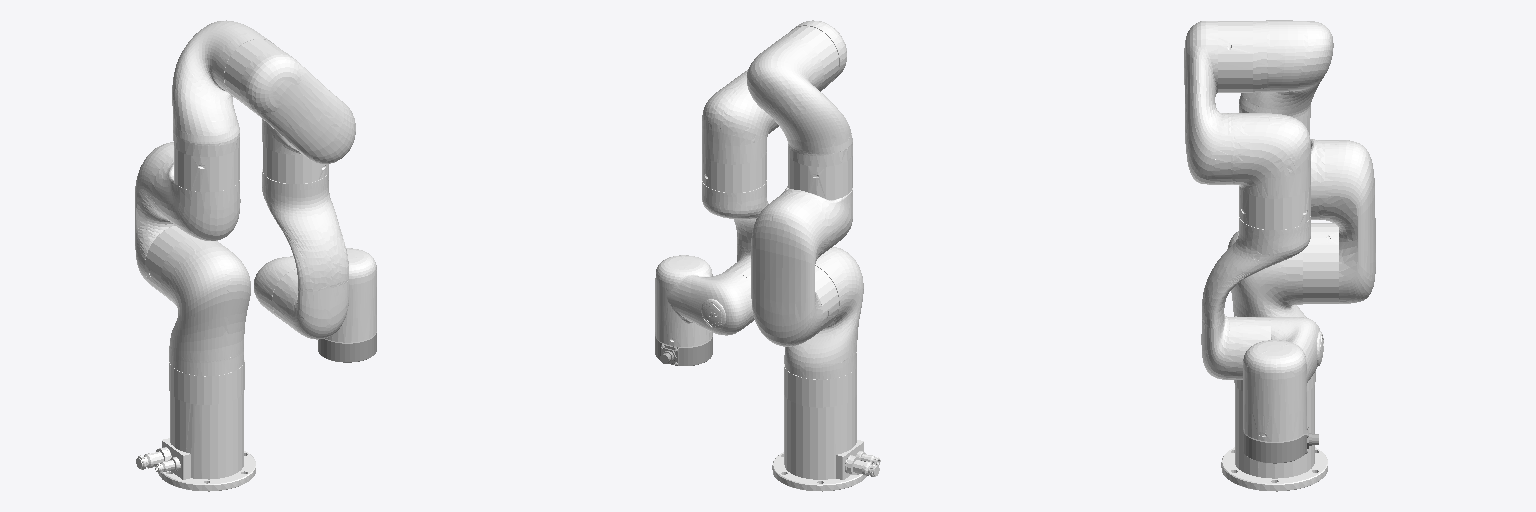
--- Facts derived from the render (not from the file) ---
The picture shows the robot from 3 angles, left to right: view 1: azimuth 30°, elevation 25°; view 2: azimuth 150°, elevation 25°; view 3: azimuth 270°, elevation 25°; orthographic projection.
Robot: UF_ROBOT — 18 links, 17 joints (13 revolute, 4 fixed); root link world; default pose: all joints at 0.
Visible links, largest first — view 1: link1, link4, link5, link_base, link3, link2, link6, link7; view 2: link2, link3, link_base, link4, link6, link1, link5, link7; view 3: link4, link3, link2, link6, link5, link1, link_base, link7.
Boxes of the visible links, x1,y1,x2,y2 form: link1: (145, 226, 250, 375); link4: (240, 50, 355, 183); link5: (262, 169, 348, 339); link_base: (136, 360, 255, 491); link3: (172, 20, 283, 156); link2: (135, 142, 240, 286); link6: (254, 248, 376, 342); link7: (318, 332, 376, 362); link2: (751, 155, 852, 346); link3: (747, 26, 852, 166); link_base: (772, 364, 880, 491); link4: (702, 20, 846, 192); link6: (655, 255, 754, 346); link1: (784, 247, 863, 378); link5: (702, 180, 768, 280); link7: (655, 336, 712, 365); link4: (1184, 21, 1310, 229); link3: (1218, 20, 1333, 123); link2: (1304, 120, 1375, 303); link6: (1243, 317, 1323, 441); link5: (1201, 216, 1310, 379); link1: (1227, 223, 1338, 317); link_base: (1221, 371, 1327, 491); link7: (1243, 426, 1318, 463).
Size in the robot's own frame: 0.3358 by 0.2259 by 0.6028 metres.
8 mesh visuals loaded from 15 distinct referenced files (8 binary STL); not drawn: 7 (reference not matched to a file when rendering).

The robot description file, URDF, robot "UF_ROBOT":
<?xml version="1.0" ?>
<!-- =================================================================================== -->
<!-- |    This document was autogenerated by xacro from xarm_description/urdf/xarm_device.urdf.xacro | -->
<!-- |    EDITING THIS FILE BY HAND IS NOT RECOMMENDED                                 | -->
<!-- =================================================================================== -->
<robot name="UF_ROBOT">
  <!-- Insert at the beginning of xarm_device_macro.xacro -->
  <material name="Black">
    <color rgba="0.0 0.0 0.0 1.0"/>
  </material>
  <material name="Red">
    <color rgba="0.8 0.0 0.0 1.0"/>
  </material>
  <material name="White">
    <color rgba="1.0 1.0 1.0 1.0"/>
  </material>
  <material name="Silver">
    <color rgba="0.753 0.753 0.753 1.0"/>
  </material>
  <link name="world"/>
  <joint name="world_joint" type="fixed">
    <parent link="world"/>
    <child link="link_base"/>
    <origin rpy="0 0 0" xyz="0. 0. 0."/>
  </joint>
  <link name="link_base">
    <inertial>
      <origin rpy="0 0 0" xyz="-0.021131 -0.0016302 0.056488"/>
      <mass value="0.88556"/>
      <inertia ixx="0.0030595" ixy="0.00012259" ixz="-0.00062705" iyy="0.0037783" iyz="0.00027023" izz="0.0020125"/>
    </inertial>
    <visual>
      <geometry>
        <mesh filename="link_base.stl"/>
      </geometry>
      <origin rpy="0 0 0" xyz="0 0 0"/>
      <material name="White"/>
    </visual>
    <collision>
      <geometry>
        <mesh filename="link_base.stl"/>
      </geometry>
      <origin rpy="0 0 0" xyz="0 0 0"/>
    </collision>
  </link>
  <link name="link1">
    <inertial>
      <origin rpy="0 0 0" xyz="-0.0002 0.02905 -0.01233"/>
      <mass value="2.382"/>
      <inertia ixx="0.0056905" ixy="-1.579e-05" ixz="5.125e-06" iyy="0.0049566" iyz="-0.000873378" izz="0.003316654"/>
    </inertial>
    <visual>
      <geometry>
        <mesh filename="link1.stl"/>
      </geometry>
      <origin rpy="0 0 0" xyz="0 0 0"/>
      <material name="White"/>
    </visual>
    <collision>
      <geometry>
        <mesh filename="link1.stl"/>
      </geometry>
      <origin rpy="0 0 0" xyz="0 0 0"/>
    </collision>
  </link>
  <joint name="joint1" type="revolute">
    <origin rpy="0 0 0" xyz="0 0 0.267"/>
    <parent link="link_base"/>
    <child link="link1"/>
    <axis xyz="0 0 1"/>
    <limit effort="50" lower="-6.283185307179586" upper="6.283185307179586" velocity="3.14"/>
    <dynamics damping="10" friction="1"/>
  </joint>
  <link name="link2">
    <inertial>
      <origin rpy="0 0 0" xyz="0.00022 -0.12856 0.01735"/>
      <mass value="1.869"/>
      <inertia ixx="0.0095989" ixy="1.541e-06" ixz="5.56e-06" iyy="0.00382472" iyz="-0.00317156" izz="0.007565669"/>
    </inertial>
    <visual>
      <geometry>
        <mesh filename="link2.stl"/>
      </geometry>
      <origin rpy="0 0 0" xyz="0 0 0"/>
      <material name="White"/>
    </visual>
    <collision>
      <geometry>
        <mesh filename="link2.stl"/>
      </geometry>
      <origin rpy="0 0 0" xyz="0 0 0"/>
    </collision>
  </link>
  <joint name="joint2" type="revolute">
    <origin rpy="-1.5708 0 0" xyz="0 0 0"/>
    <parent link="link1"/>
    <child link="link2"/>
    <axis xyz="0 0 1"/>
    <limit effort="50" lower="-2.059" upper="2.0944" velocity="3.14"/>
    <dynamics damping="10" friction="1"/>
  </joint>
  <link name="link3">
    <inertial>
      <origin rpy="0 0 0" xyz="0.0466 -0.02463 -0.00768"/>
      <mass value="1.6383"/>
      <inertia ixx="0.00310955" ixy="0.00030837" ixz="-0.00058453" iyy="0.00264483" iyz="0.000338893" izz="0.0026624"/>
    </inertial>
    <visual>
      <geometry>
        <mesh filename="link3.stl"/>
      </geometry>
      <origin rpy="0 0 0" xyz="0 0 0"/>
      <material name="White"/>
    </visual>
    <collision>
      <geometry>
        <mesh filename="link3.stl"/>
      </geometry>
      <origin rpy="0 0 0" xyz="0 0 0"/>
    </collision>
  </link>
  <joint name="joint3" type="revolute">
    <origin rpy="1.5708 0 0" xyz="0 -0.293 0"/>
    <parent link="link2"/>
    <child link="link3"/>
    <axis xyz="0 0 1"/>
    <limit effort="30" lower="-6.283185307179586" upper="6.283185307179586" velocity="3.14"/>
    <dynamics damping="5" friction="1"/>
  </joint>
  <link name="link4">
    <inertial>
      <origin rpy="0 0 0" xyz="0.07047 -0.11575 0.012"/>
      <mass value="1.7269"/>
      <inertia ixx="0.005889" ixy="0.00137112" ixz="0.00088143" iyy="0.00359703" iyz="-0.001762155" izz="0.00543244"/>
    </inertial>
    <visual>
      <geometry>
        <mesh filename="link4.stl"/>
      </geometry>
      <origin rpy="0 0 0" xyz="0 0 0"/>
      <material name="White"/>
    </visual>
    <collision>
      <geometry>
        <mesh filename="link4.stl"/>
      </geometry>
      <origin rpy="0 0 0" xyz="0 0 0"/>
    </collision>
  </link>
  <joint name="joint4" type="revolute">
    <origin rpy="1.5708 0 0" xyz="0.0525 0 0"/>
    <parent link="link3"/>
    <child link="link4"/>
    <axis xyz="0 0 1"/>
    <limit effort="30" lower="-0.19198" upper="3.927" velocity="3.14"/>
    <dynamics damping="5" friction="1"/>
  </joint>
  <link name="link5">
    <inertial>
      <origin rpy="0 0 0" xyz="-0.00032 0.01604 -0.026"/>
      <mass value="1.3203"/>
      <inertia ixx="0.00534665" ixy="1.5117e-05" ixz="-3.69e-07" iyy="0.0049779" iyz="-0.00022132" izz="0.0013624"/>
    </inertial>
    <visual>
      <geometry>
        <mesh filename="link5.stl"/>
      </geometry>
      <origin rpy="0 0 0" xyz="0 0 0"/>
      <material name="White"/>
    </visual>
    <collision>
      <geometry>
        <mesh filename="link5.stl"/>
      </geometry>
      <origin rpy="0 0 0" xyz="0 0 0"/>
    </collision>
  </link>
  <joint name="joint5" type="revolute">
    <origin rpy="1.5708 0 0" xyz="0.0775 -0.3425 0"/>
    <parent link="link4"/>
    <child link="link5"/>
    <axis xyz="0 0 1"/>
    <limit effort="30" lower="-6.283185307179586" upper="6.283185307179586" velocity="3.14"/>
    <dynamics damping="5" friction="1"/>
  </joint>
  <link name="link6">
    <inertial>
      <origin rpy="0 0 0" xyz="0.06469 0.03278 0.02141"/>
      <mass value="1.325"/>
      <inertia ixx="0.0014745" ixy="-0.000488" ixz="0.0002953" iyy="0.0019037" iyz="0.00014749" izz="0.0023652"/>
    </inertial>
    <visual>
      <geometry>
        <mesh filename="link6.stl"/>
      </geometry>
      <origin rpy="0 0 0" xyz="0 0 0"/>
      <material name="White"/>
    </visual>
    <collision>
      <geometry>
        <mesh filename="link6.stl"/>
      </geometry>
      <origin rpy="0 0 0" xyz="0 0 0"/>
    </collision>
  </link>
  <joint name="joint6" type="revolute">
    <origin rpy="1.5708 0 0" xyz="0 0 0"/>
    <parent link="link5"/>
    <child link="link6"/>
    <axis xyz="0 0 1"/>
    <limit effort="20" lower="-1.69297" upper="3.141592653589793" velocity="3.14"/>
    <dynamics damping="2" friction="1"/>
  </joint>
  <link name="link7">
    <inertial>
      <origin rpy="0 0 0" xyz="0 -0.00677 -0.01098"/>
      <mass value="0.17"/>
      <inertia ixx="9.3e-05" ixy="-0.0" ixz="-0.0" iyy="5.87e-05" iyz="-3.6e-06" izz="0.000132"/>
    </inertial>
    <visual>
      <geometry>
        <mesh filename="link7.stl"/>
      </geometry>
      <origin rpy="0 0 0" xyz="0 0 0"/>
      <material name="Silver"/>
    </visual>
    <collision>
      <geometry>
        <mesh filename="end_tool.stl"/>
      </geometry>
      <origin rpy="0 0 0" xyz="0 0 0"/>
    </collision>
  </link>
  <joint name="joint7" type="revolute">
    <origin rpy="-1.5708 0 0" xyz="0.076 0.097 0"/>
    <parent link="link6"/>
    <child link="link7"/>
    <axis xyz="0 0 1"/>
    <limit effort="20" lower="-6.283185307179586" upper="6.283185307179586" velocity="3.14"/>
    <dynamics damping="2" friction="1"/>
  </joint>
  <!-- <link name="${prefix}link_eef" />
    <joint name="${prefix}joint_eef" type="fixed">
      <origin xyz="0 0 0" rpy="0 0 0" />
      <parent link="${prefix}link7" />
      <child link="${prefix}link_eef" />
    </joint> -->
  <transmission name="tran1">
    <type>transmission_interface/SimpleTransmission</type>
    <joint name="joint1">
      <hardwareInterface>hardware_interface/PositionJointInterface</hardwareInterface>
    </joint>
    <actuator name="motor1">
      <hardwareInterface>hardware_interface/PositionJointInterface</hardwareInterface>
      <mechanicalReduction>100</mechanicalReduction>
    </actuator>
  </transmission>
  <transmission name="tran2">
    <type>transmission_interface/SimpleTransmission</type>
    <joint name="joint2">
      <hardwareInterface>hardware_interface/PositionJointInterface</hardwareInterface>
    </joint>
    <actuator name="motor2">
      <hardwareInterface>hardware_interface/PositionJointInterface</hardwareInterface>
      <mechanicalReduction>100</mechanicalReduction>
    </actuator>
  </transmission>
  <transmission name="tran3">
    <type>transmission_interface/SimpleTransmission</type>
    <joint name="joint3">
      <hardwareInterface>hardware_interface/PositionJointInterface</hardwareInterface>
    </joint>
    <actuator name="motor3">
      <hardwareInterface>hardware_interface/PositionJointInterface</hardwareInterface>
      <mechanicalReduction>100</mechanicalReduction>
    </actuator>
  </transmission>
  <transmission name="tran4">
    <type>transmission_interface/SimpleTransmission</type>
    <joint name="joint4">
      <hardwareInterface>hardware_interface/PositionJointInterface</hardwareInterface>
    </joint>
    <actuator name="motor4">
      <hardwareInterface>hardware_interface/PositionJointInterface</hardwareInterface>
      <mechanicalReduction>100</mechanicalReduction>
    </actuator>
  </transmission>
  <transmission name="tran5">
    <type>transmission_interface/SimpleTransmission</type>
    <joint name="joint5">
      <hardwareInterface>hardware_interface/PositionJointInterface</hardwareInterface>
    </joint>
    <actuator name="motor5">
      <hardwareInterface>hardware_interface/PositionJointInterface</hardwareInterface>
      <mechanicalReduction>100</mechanicalReduction>
    </actuator>
  </transmission>
  <transmission name="tran6">
    <type>transmission_interface/SimpleTransmission</type>
    <joint name="joint6">
      <hardwareInterface>hardware_interface/PositionJointInterface</hardwareInterface>
    </joint>
    <actuator name="motor6">
      <hardwareInterface>hardware_interface/PositionJointInterface</hardwareInterface>
      <mechanicalReduction>100</mechanicalReduction>
    </actuator>
  </transmission>
  <transmission name="tran7">
    <type>transmission_interface/SimpleTransmission</type>
    <joint name="joint7">
      <hardwareInterface>hardware_interface/PositionJointInterface</hardwareInterface>
    </joint>
    <actuator name="motor7">
      <hardwareInterface>hardware_interface/PositionJointInterface</hardwareInterface>
      <mechanicalReduction>100</mechanicalReduction>
    </actuator>
  </transmission>
  <gazebo reference="link_base">
    <selfCollide>true</selfCollide>
  </gazebo>
  <gazebo reference="link1">
    <selfCollide>true</selfCollide>
  </gazebo>
  <gazebo reference="link2">
    <selfCollide>true</selfCollide>
  </gazebo>
  <gazebo reference="link3">
    <selfCollide>true</selfCollide>
  </gazebo>
  <gazebo reference="link4">
    <selfCollide>true</selfCollide>
  </gazebo>
  <gazebo reference="link5">
    <selfCollide>true</selfCollide>
  </gazebo>
  <gazebo reference="link6">
    <selfCollide>true</selfCollide>
  </gazebo>
  <gazebo reference="link7">
    <selfCollide>true</selfCollide>
  </gazebo>
  <link name="link_eef"/>
  <joint name="joint_eef" type="fixed">
    <origin rpy="0 0 0" xyz="0 0 0"/>
    <parent link="link7"/>
    <child link="link_eef"/>
  </joint>
  <joint name="gripper_fix" type="fixed">
    <parent link="link_eef"/>
    <child link="xarm_gripper_base_link"/>
    <origin rpy="0 0 3.141592653589793" xyz="0 0 0"/>
  </joint>
  <link name="xarm_gripper_base_link">
    <inertial>
      <origin rpy="0 0 0" xyz="-0.00065489 -0.0018497 0.048028"/>
      <mass value="0.54156"/>
      <inertia ixx="0.00047106" ixy="3.9292E-07" ixz="2.6537E-06" iyy="0.00033072" iyz="-1.0975E-05" izz="0.00025642"/>
    </inertial>
    <visual>
      <geometry>
        <mesh filename="base_link.stl"/>
      </geometry>
      <origin rpy="0 0 0" xyz="0 0 0"/>
      <material name="White"/>
    </visual>
    <collision>
      <geometry>
        <mesh filename="base_link.stl"/>
      </geometry>
      <origin rpy="0 0 0" xyz="0 0 0"/>
    </collision>
  </link>
  <link name="left_outer_knuckle">
    <inertial>
      <origin rpy="0 0 0" xyz="2.9948E-14 0.021559 0.015181"/>
      <mass value="0.033618"/>
      <inertia ixx="1.9111E-05" ixy="-1.8803E-17" ixz="-1.1002E-17" iyy="6.6256E-06" iyz="-7.3008E-06" izz="1.3185E-05"/>
    </inertial>
    <visual>
      <geometry>
        <mesh filename="left_outer_knuckle.stl"/>
      </geometry>
      <origin rpy="0 0 0" xyz="0 0 0"/>
      <material name="Silver"/>
    </visual>
    <collision>
      <geometry>
        <mesh filename="left_outer_knuckle.stl"/>
      </geometry>
      <origin rpy="0 0 0" xyz="0 0 0"/>
    </collision>
  </link>
  <joint name="drive_joint" type="revolute">
    <origin rpy="0 0 0" xyz="0 0.035 0.059098"/>
    <parent link="xarm_gripper_base_link"/>
    <child link="left_outer_knuckle"/>
    <axis xyz="1 0 0"/>
    <limit effort="50" lower="0" upper="0.85" velocity="2"/>
  </joint>
  <link name="left_finger">
    <inertial>
      <origin rpy="0 0 0" xyz="-2.4536E-14 -0.016413 0.029258"/>
      <mass value="0.048304"/>
      <inertia ixx="1.7493E-05" ixy="-4.2156E-19" ixz="6.9164E-18" iyy="1.7225E-05" iyz="4.6433E-06" izz="5.1466E-06"/>
    </inertial>
    <visual>
      <geometry>
        <mesh filename="left_finger.stl"/>
      </geometry>
      <origin rpy="0 0 0" xyz="0 0 0"/>
      <material name="Silver"/>
    </visual>
    <collision>
      <geometry>
        <mesh filename="left_finger.stl"/>
      </geometry>
      <origin rpy="0 0 0" xyz="0 0 0"/>
    </collision>
  </link>
  <joint name="left_finger_joint" type="revolute">
    <origin rpy="0 0 0" xyz="0 0.035465 0.042039"/>
    <parent link="left_outer_knuckle"/>
    <child link="left_finger"/>
    <axis xyz="-1 0 0"/>
    <limit effort="50" lower="0" upper="0.85" velocity="2"/>
    <mimic joint="drive_joint" multiplier="1" offset="0"/>
  </joint>
  <link name="left_inner_knuckle">
    <inertial>
      <origin rpy="0 0 0" xyz="1.86600784687907E-06 0.0220467847633621 0.0261334672830885"/>
      <mass value="0.0230125781256706"/>
      <inertia ixx="6.09490024271906E-06" ixy="6.06651326160071E-11" ixz="7.19102670500635E-11" iyy="6.01955084375188E-06" iyz="-2.75316812991721E-06" izz="5.07862004479903E-06"/>
    </inertial>
    <visual>
      <geometry>
        <mesh filename="left_inner_knuckle.stl"/>
      </geometry>
      <origin rpy="0 0 0" xyz="0 0 0"/>
      <material name="Silver"/>
    </visual>
    <collision>
      <geometry>
        <mesh filename="left_inner_knuckle.stl"/>
      </geometry>
      <origin rpy="0 0 0" xyz="0 0 0"/>
    </collision>
  </link>
  <joint name="left_inner_knuckle_joint" type="revolute">
    <origin rpy="0 0 0" xyz="0 0.02 0.074098"/>
    <parent link="xarm_gripper_base_link"/>
    <child link="left_inner_knuckle"/>
    <axis xyz="1 0 0"/>
    <limit effort="50" lower="0" upper="0.85" velocity="2"/>
    <mimic joint="drive_joint" multiplier="1" offset="0"/>
  </joint>
  <link name="right_outer_knuckle">
    <inertial>
      <origin rpy="0 0 0" xyz="-3.1669E-14 -0.021559 0.015181"/>
      <mass value="0.033618"/>
      <inertia ixx="1.9111E-05" ixy="-1.8789E-17" ixz="1.0986E-17" iyy="6.6256E-06" iyz="7.3008E-06" izz="1.3185E-05"/>
    </inertial>
    <visual>
      <geometry>
        <mesh filename="right_outer_knuckle.stl"/>
      </geometry>
      <origin rpy="0 0 0" xyz="0 0 0"/>
      <material name="Silver"/>
    </visual>
    <collision>
      <geometry>
        <mesh filename="right_outer_knuckle.stl"/>
      </geometry>
      <origin rpy="0 0 0" xyz="0 0 0"/>
    </collision>
  </link>
  <joint name="right_outer_knuckle_joint" type="revolute">
    <origin rpy="0 0 0" xyz="0 -0.035 0.059098"/>
    <parent link="xarm_gripper_base_link"/>
    <child link="right_outer_knuckle"/>
    <axis xyz="-1 0 0"/>
    <limit effort="50" lower="0" upper="0.85" velocity="2"/>
    <mimic joint="drive_joint" multiplier="1" offset="0"/>
  </joint>
  <link name="right_finger">
    <inertial>
      <origin rpy="0 0 0" xyz="2.5618E-14 0.016413 0.029258"/>
      <mass value="0.048304"/>
      <inertia ixx="1.7493E-05" ixy="-5.0014E-19" ixz="-7.5079E-18" iyy="1.7225E-05" iyz="-4.6435E-06" izz="5.1466E-06"/>
    </inertial>
    <visual>
      <geometry>
        <mesh filename="right_finger.stl"/>
      </geometry>
      <origin rpy="0 0 0" xyz="0 0 0"/>
      <material name="Silver"/>
    </visual>
    <collision>
      <geometry>
        <mesh filename="right_finger.stl"/>
      </geometry>
      <origin rpy="0 0 0" xyz="0 0 0"/>
    </collision>
  </link>
  <joint name="right_finger_joint" type="revolute">
    <origin rpy="0 0 0" xyz="0 -0.035465 0.042039"/>
    <parent link="right_outer_knuckle"/>
    <child link="right_finger"/>
    <axis xyz="1 0 0"/>
    <limit effort="50" lower="0" upper="0.85" velocity="2"/>
    <mimic joint="drive_joint" multiplier="1" offset="0"/>
  </joint>
  <link name="right_inner_knuckle">
    <inertial>
      <origin rpy="0 0 0" xyz="1.866E-06 -0.022047 0.026133"/>
      <mass value="0.023013"/>
      <inertia ixx="6.0949E-06" ixy="-6.0665E-11" ixz="7.191E-11" iyy="6.0197E-06" iyz="2.7531E-06" izz="5.0784E-06"/>
    </inertial>
    <visual>
      <geometry>
        <mesh filename="right_inner_knuckle.stl"/>
      </geometry>
      <origin rpy="0 0 0" xyz="0 0 0"/>
      <material name="Silver"/>
    </visual>
    <collision>
      <geometry>
        <mesh filename="right_inner_knuckle.stl"/>
      </geometry>
      <origin rpy="0 0 0" xyz="0 0 0"/>
    </collision>
  </link>
  <joint name="right_inner_knuckle_joint" type="revolute">
    <origin rpy="0 0 0" xyz="0 -0.02 0.074098"/>
    <parent link="xarm_gripper_base_link"/>
    <child link="right_inner_knuckle"/>
    <axis xyz="-1 0 0"/>
    <limit effort="50" lower="0" upper="0.85" velocity="2"/>
    <mimic joint="drive_joint" multiplier="1" offset="0"/>
  </joint>
  <link name="link_tcp"/>
  <joint name="joint_tcp" type="fixed">
    <origin rpy="3.1415 -1.5707 0" xyz="0 0 0.152"/>
    <parent link="xarm_gripper_base_link"/>
    <child link="link_tcp"/>
  </joint>
  <transmission name="drive_joint_trans">
    <type>transmission_interface/SimpleTransmission</type>
    <joint name="drive_joint">
      <hardwareInterface>hardware_interface/PositionJointInterface</hardwareInterface>
    </joint>
    <actuator name="drive_joint_motor">
      <hardwareInterface>hardware_interface/PositionJointInterface</hardwareInterface>
      <mechanicalReduction>1</mechanicalReduction>
    </actuator>
  </transmission>
  <gazebo reference="xarm_gripper_base_link">
    <selfCollide>false</selfCollide>
  </gazebo>
  <gazebo reference="left_outer_knuckle">
    <selfCollide>false</selfCollide>
  </gazebo>
  <gazebo reference="left_finger">
    <selfCollide>false</selfCollide>
  </gazebo>
  <gazebo reference="left_inner_knuckle">
    <selfCollide>false</selfCollide>
  </gazebo>
  <gazebo reference="right_outer_knuckle">
    <selfCollide>false</selfCollide>
  </gazebo>
  <gazebo reference="right_finger">
    <selfCollide>false</selfCollide>
  </gazebo>
  <gazebo reference="right_inner_knuckle">
    <selfCollide>false</selfCollide>
  </gazebo>
  <gazebo>
    <plugin filename="libgazebo_grasp_fix.so" name="gazebo_grasp_fix">
      <arm>
        <arm_name>xarm_gripper</arm_name>
        <palm_link>link7</palm_link>
        <gripper_link>left_inner_knuckle</gripper_link>
        <gripper_link>right_inner_knuckle</gripper_link>
        <!-- <gripper_link>${prefix}left_outer_knuckle</gripper_link>
          <gripper_link>${prefix}right_outer_knuckle</gripper_link> -->
        <gripper_link>left_finger</gripper_link>
        <gripper_link>right_finger</gripper_link>
      </arm>
      <forces_angle_tolerance>100</forces_angle_tolerance>
      <update_rate>10</update_rate>
      <grip_count_threshold>2</grip_count_threshold>
      <max_grip_count>3</max_grip_count>
      <release_tolerance>0.0198</release_tolerance>
      <disable_collisions_on_attach>false</disable_collisions_on_attach>
      <contact_topic>__default_topic__</contact_topic>
    </plugin>
  </gazebo>
  <!-- <xacro:property name="filename" value="libroboticsgroup_upatras_gazebo_mimic_joint_plugin.so" /> -->
  <gazebo>
    <plugin filename="libroboticsgroup_gazebo_mimic_joint_plugin.so" name="left_finger_jointmimic_joint_plugin">
      <joint>drive_joint</joint>
      <mimicJoint>left_finger_joint</mimicJoint>
      <multiplier>1.0</multiplier>
      <offset>0</offset>
      <sensitiveness>0.0</sensitiveness>
      <!-- if absolute difference between setpoint and process value is below this threshold, do nothing; 0.0 = disable [rad] -->
      <maxEffort>10.0</maxEffort>
    </plugin>
  </gazebo>
  <!-- <xacro:property name="filename" value="libroboticsgroup_upatras_gazebo_mimic_joint_plugin.so" /> -->
  <gazebo>
    <plugin filename="libroboticsgroup_gazebo_mimic_joint_plugin.so" name="left_inner_knuckle_jointmimic_joint_plugin">
      <joint>drive_joint</joint>
      <mimicJoint>left_inner_knuckle_joint</mimicJoint>
      <multiplier>1.0</multiplier>
      <offset>0</offset>
      <sensitiveness>0.0</sensitiveness>
      <!-- if absolute difference between setpoint and process value is below this threshold, do nothing; 0.0 = disable [rad] -->
      <maxEffort>10.0</maxEffort>
    </plugin>
  </gazebo>
  <!-- <xacro:property name="filename" value="libroboticsgroup_upatras_gazebo_mimic_joint_plugin.so" /> -->
  <gazebo>
    <plugin filename="libroboticsgroup_gazebo_mimic_joint_plugin.so" name="right_outer_knuckle_jointmimic_joint_plugin">
      <joint>drive_joint</joint>
      <mimicJoint>right_outer_knuckle_joint</mimicJoint>
      <multiplier>1.0</multiplier>
      <offset>0</offset>
      <sensitiveness>0.0</sensitiveness>
      <!-- if absolute difference between setpoint and process value is below this threshold, do nothing; 0.0 = disable [rad] -->
      <maxEffort>10.0</maxEffort>
    </plugin>
  </gazebo>
  <!-- <xacro:property name="filename" value="libroboticsgroup_upatras_gazebo_mimic_joint_plugin.so" /> -->
  <gazebo>
    <plugin filename="libroboticsgroup_gazebo_mimic_joint_plugin.so" name="right_finger_jointmimic_joint_plugin">
      <joint>drive_joint</joint>
      <mimicJoint>right_finger_joint</mimicJoint>
      <multiplier>1.0</multiplier>
      <offset>0</offset>
      <sensitiveness>0.0</sensitiveness>
      <!-- if absolute difference between setpoint and process value is below this threshold, do nothing; 0.0 = disable [rad] -->
      <maxEffort>10.0</maxEffort>
    </plugin>
  </gazebo>
  <!-- <xacro:property name="filename" value="libroboticsgroup_upatras_gazebo_mimic_joint_plugin.so" /> -->
  <gazebo>
    <plugin filename="libroboticsgroup_gazebo_mimic_joint_plugin.so" name="right_inner_knuckle_jointmimic_joint_plugin">
      <joint>drive_joint</joint>
      <mimicJoint>right_inner_knuckle_joint</mimicJoint>
      <multiplier>1.0</multiplier>
      <offset>0</offset>
      <sensitiveness>0.0</sensitiveness>
      <!-- if absolute difference between setpoint and process value is below this threshold, do nothing; 0.0 = disable [rad] -->
      <maxEffort>10.0</maxEffort>
    </plugin>
  </gazebo>
  <gazebo>
    <plugin filename="libgazebo_ros_control.so" name="gazebo_ros_control">
      <robotNamespace>xarm</robotNamespace>
      <!-- <controlPeriod>0.0001</controlPeriod> -->
      <robotSimType>gazebo_ros_control/DefaultRobotHWSim</robotSimType>
      <legacyModeNS>true</legacyModeNS>
      <!-- <preserveWorldVelocity>true</preserveWorldVelocity> -->
    </plugin>
  </gazebo>
  <!-- Insert at the end of xarm_device_macro.xacro -->
</robot>
